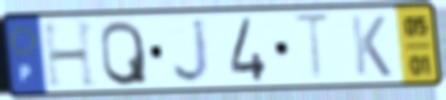4: (229, 15, 269, 84)
H: (39, 19, 101, 91)
J: (170, 16, 214, 86)
K: (348, 14, 395, 80)
Q: (98, 18, 151, 89)
T: (290, 12, 335, 84)
